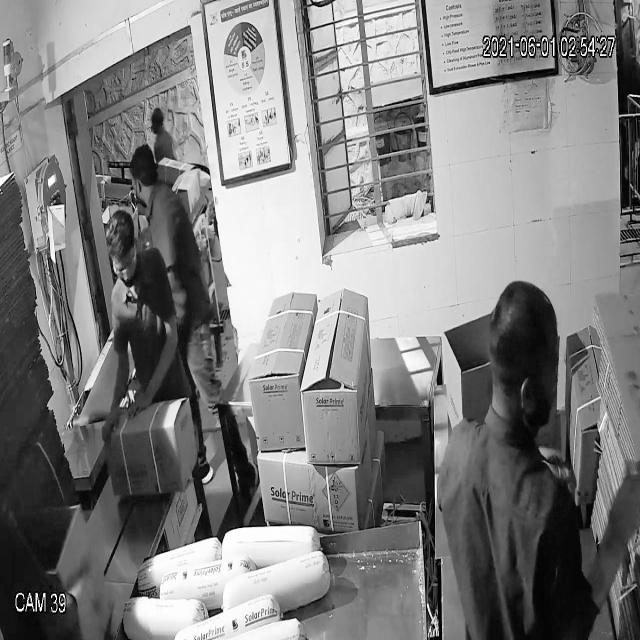glasses: (108, 238, 140, 286)
